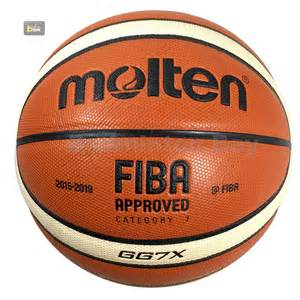basketball: (15, 8, 293, 291)
